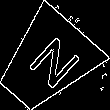N_SW: (14, 31, 78, 95)
